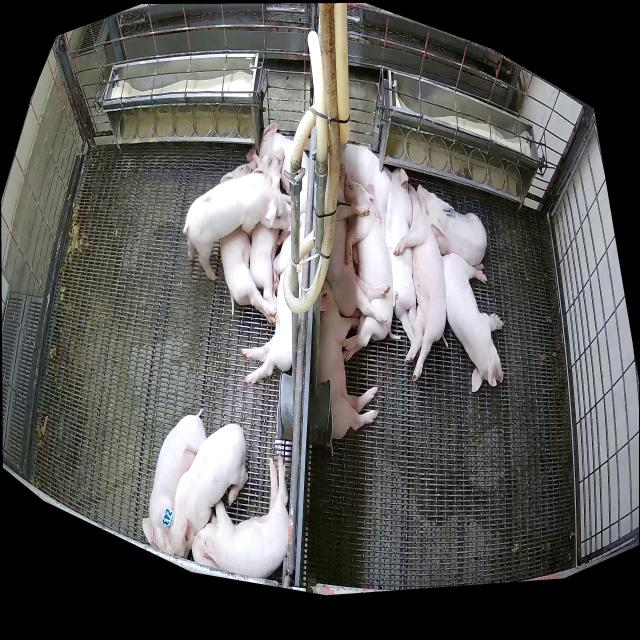pig: (183, 167, 291, 281), (192, 455, 289, 579), (160, 424, 248, 559), (242, 212, 306, 384), (393, 183, 448, 382), (317, 279, 378, 458), (342, 172, 400, 360), (325, 164, 391, 322), (142, 407, 207, 555), (220, 158, 277, 325), (441, 253, 504, 391), (246, 123, 309, 246), (250, 147, 291, 306), (383, 165, 416, 346), (417, 185, 487, 265), (340, 143, 390, 239)
